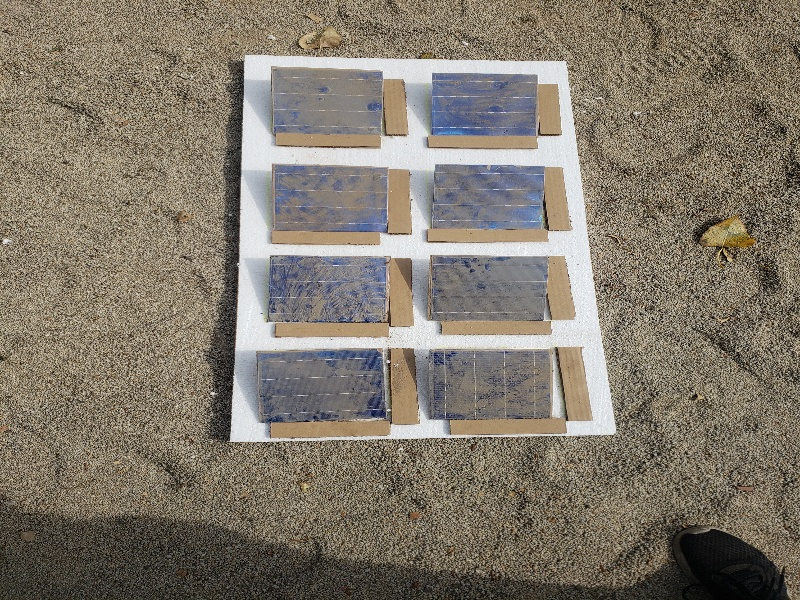dirty: (255, 351, 390, 422), (428, 351, 560, 422), (271, 66, 384, 144), (273, 164, 394, 236), (429, 255, 551, 323), (268, 257, 391, 323), (430, 164, 552, 230)
semi: (431, 69, 544, 135)
